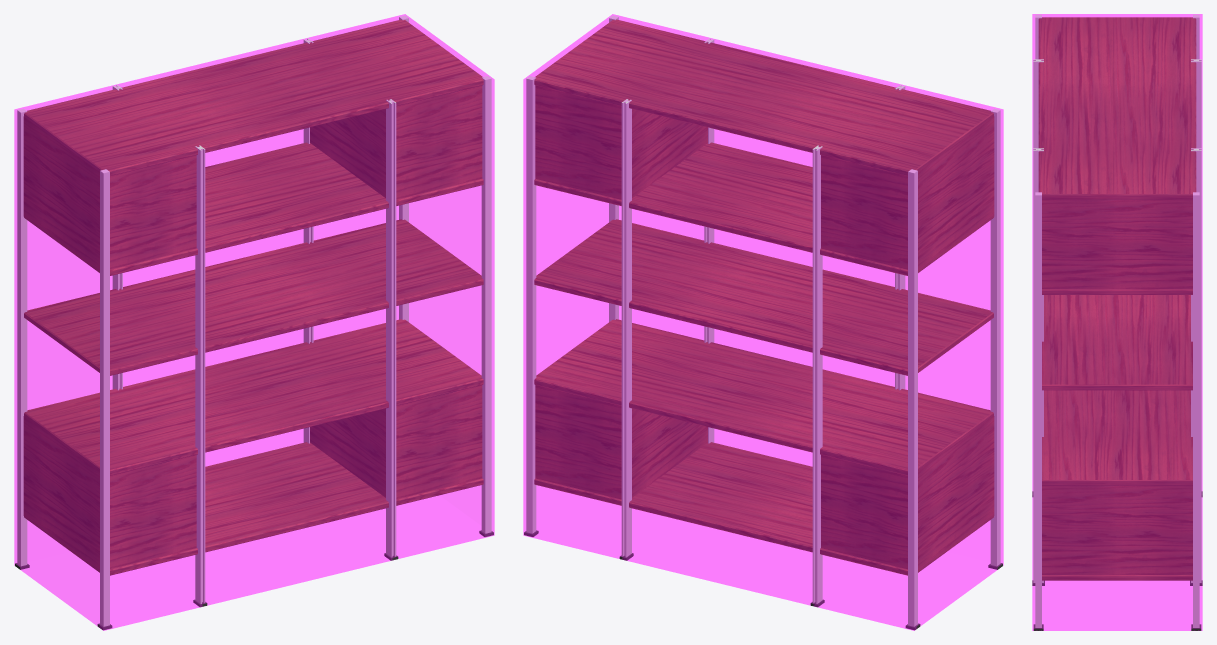
The model's file is shelf_A.fbx.
3 views of the same model, side by side, from view 1: azimuth 30°, elevation 25°; view 2: azimuth 150°, elevation 25°; view 3: azimuth 270°, elevation 25° (orthographic). The views are drawn at different scales.
Visible parts, largest first — view 1: boundingbox, shelf_A; view 2: boundingbox, shelf_A; view 3: boundingbox, shelf_A.
Boxes of the visible parts, left/top/right/bottom form: boundingbox: left=14, top=14, right=494, bottom=630; shelf_A: left=15, top=15, right=493, bottom=630; boundingbox: left=523, top=14, right=1003, bottom=630; shelf_A: left=524, top=15, right=1002, bottom=630; boundingbox: left=1032, top=14, right=1202, bottom=630; shelf_A: left=1032, top=14, right=1202, bottom=630.
Size of the model in its own units: 164 by 183 by 64.91.
Materials: 4 (1 with a texture image).
